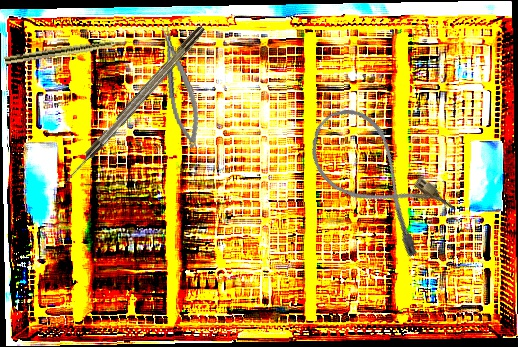Cannula: (294, 95, 461, 262)
Handpiece: (4, 35, 137, 67)
Hook Surgical: (59, 24, 208, 187)
Needle Holder: (156, 24, 205, 150)
